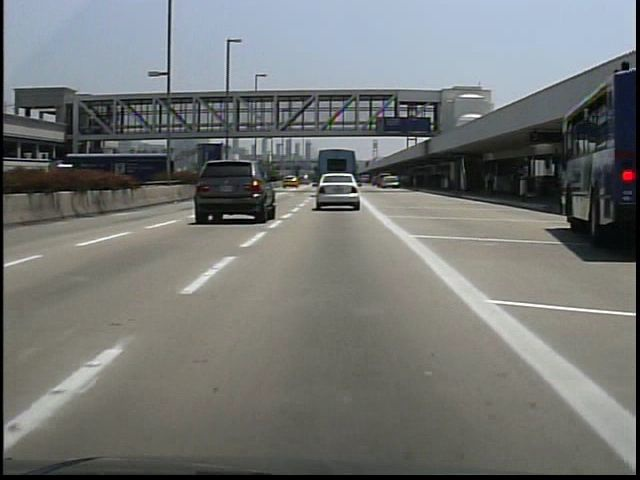person: (481, 165, 501, 202)
